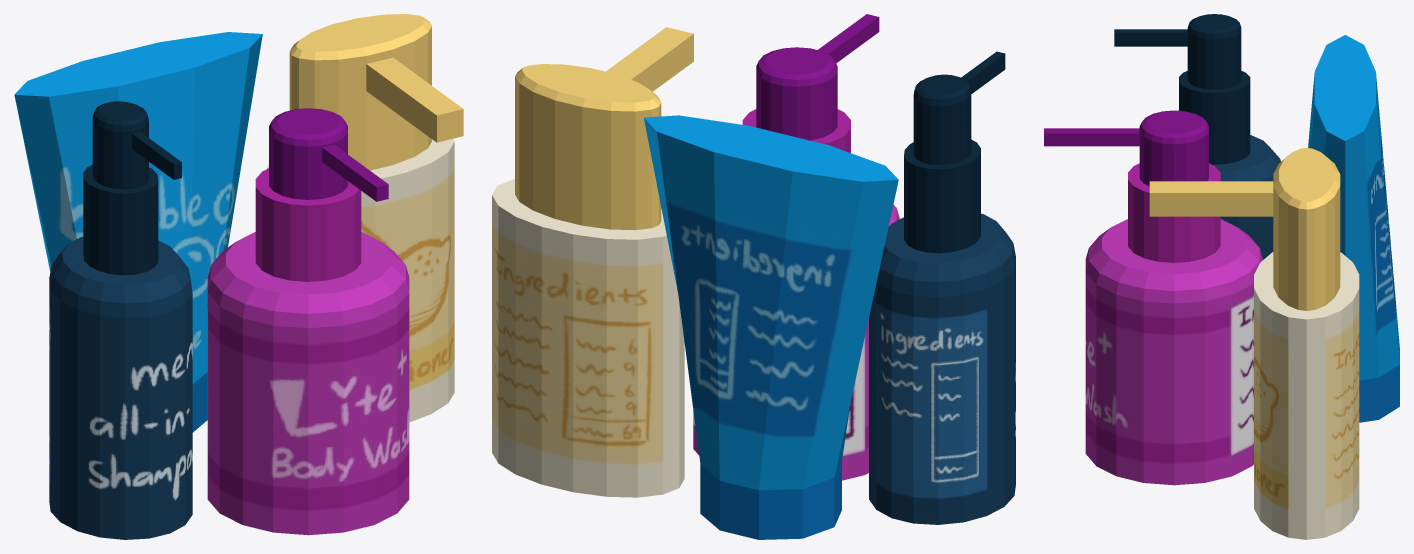
Rendered from Soap Bottles.fbx.
3 renders of one model, left to right at view 1: azimuth 30°, elevation 25°; view 2: azimuth 150°, elevation 25°; view 3: azimuth 270°, elevation 25°, orthographic. The views are drawn at different scales.
Visible parts, largest first — view 1: Soap 4, Soap 3, Soap 2, Soap 1; view 2: Soap 1, Soap 2, Soap 3, Soap 4; view 3: Soap 4, Soap 1, Soap 2, Soap 3.
Boxes of the visible parts, x1,y1,x2,y2 form: Soap 4: (207,108,409,535); Soap 3: (49,101,192,539); Soap 2: (14,32,262,432); Soap 1: (267,14,463,422); Soap 1: (492,27,693,497); Soap 2: (644,115,898,539); Soap 3: (869,51,1015,524); Soap 4: (693,14,899,480); Soap 4: (1044,110,1262,485); Soap 1: (1149,148,1359,539); Soap 2: (1308,35,1399,422); Soap 3: (1114,14,1280,259).
Bounding box in the file's own units: 204 × 179 × 162.
